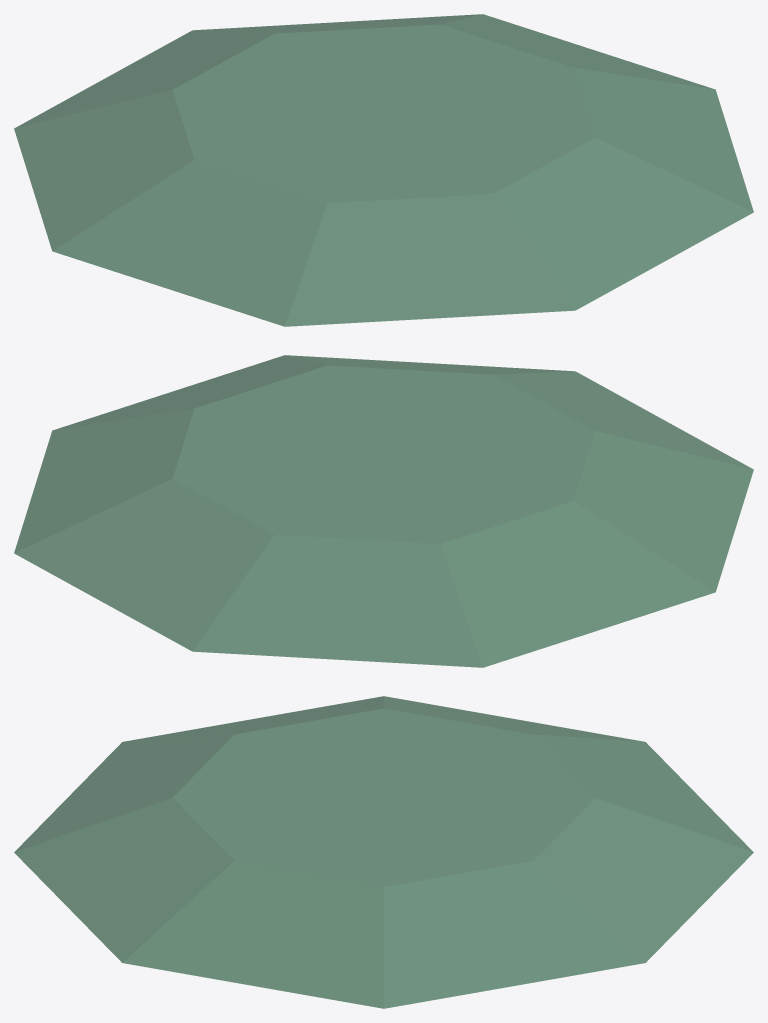
Rendered from GH_1_GlassCeiling.gltf.
3 renders of one model, top to bottom at view 1: azimuth 30°, elevation 25°; view 2: azimuth 150°, elevation 25°; view 3: azimuth 270°, elevation 25°, orthographic. The views are drawn at different scales.
Visible parts, largest first — view 1: GH_1_GlassCeiling; view 2: GH_1_GlassCeiling; view 3: GH_1_GlassCeiling.
Boxes of the visible parts, <box> form: GH_1_GlassCeiling: <box>14,14,753,326</box>; GH_1_GlassCeiling: <box>14,355,753,667</box>; GH_1_GlassCeiling: <box>14,696,753,1008</box>.
Bounding box in the file's own units: 23.41 × 1.91 × 23.41.
